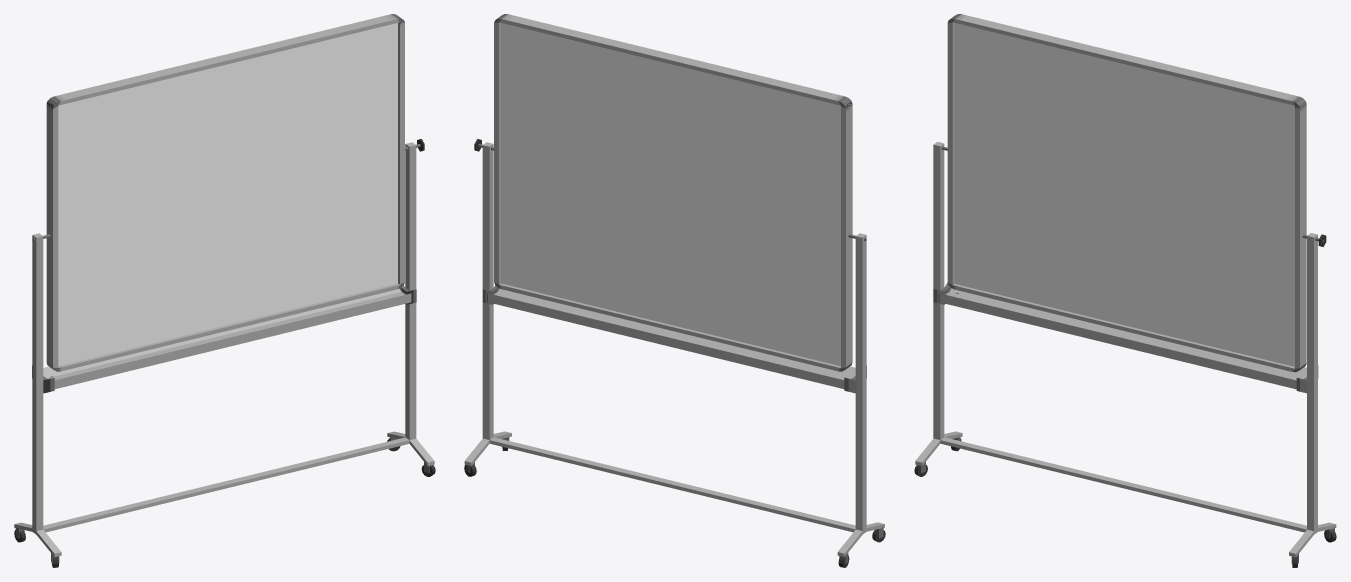
The model's file is Whiteboard.fbx.
3 views of the same model, side by side, from view 1: azimuth 30°, elevation 25°; view 2: azimuth 150°, elevation 25°; view 3: azimuth 330°, elevation 25° (orthographic).
Parts seen in each view (by area): view 1: Whiteboard, WhiteboardLegs; view 2: Whiteboard, WhiteboardLegs; view 3: Whiteboard, WhiteboardLegs.
Boxes of the visible parts, left/top/right/bottom form: Whiteboard: left=46, top=14, right=404, bottom=371; WhiteboardLegs: left=14, top=139, right=435, bottom=567; Whiteboard: left=494, top=14, right=852, bottom=371; WhiteboardLegs: left=464, top=139, right=885, bottom=567; Whiteboard: left=947, top=14, right=1306, bottom=372; WhiteboardLegs: left=914, top=141, right=1336, bottom=567.
Bounding box in the file's own units: 301 × 333 × 56.54.
